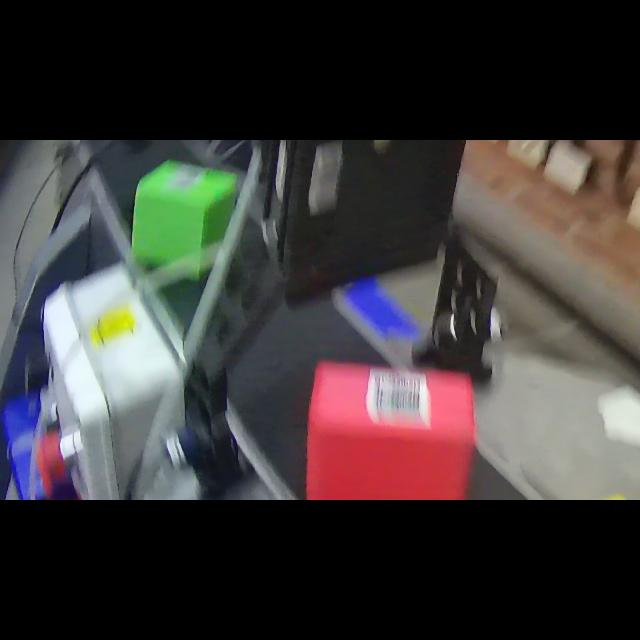greenBox: (127, 152, 240, 282)
redBox: (306, 356, 480, 500)
yellowBox: (530, 492, 640, 500)
